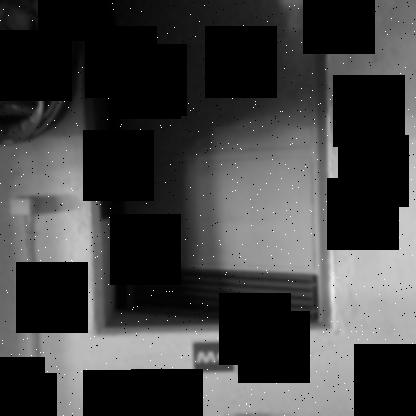Porte: (78, 1, 333, 338)
